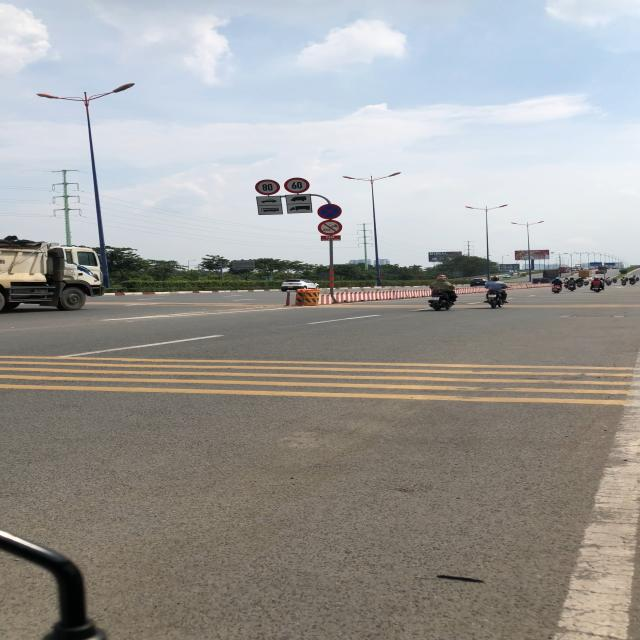Bien bao cam dung xe va do xe: (317, 203, 343, 220)
Bien bao toc do toi da cho phep: (282, 177, 313, 197), (254, 179, 281, 197)
